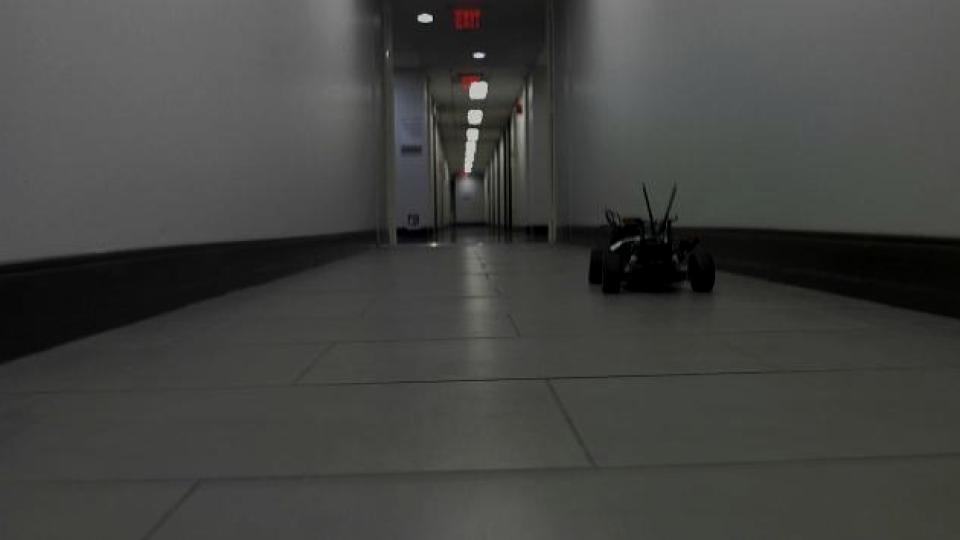car: (584, 179, 718, 298)
